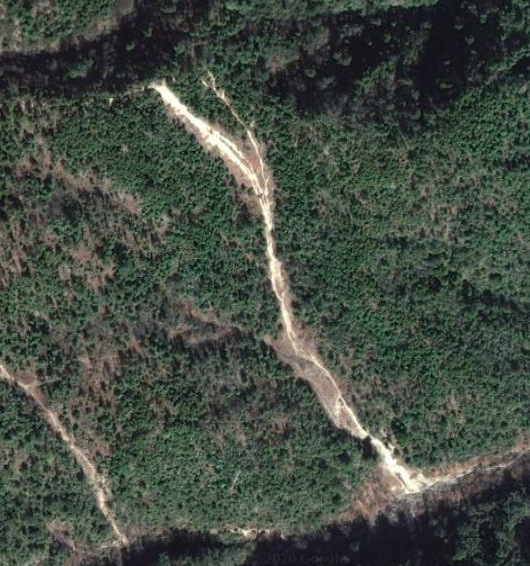slope: (137, 74, 524, 519)
